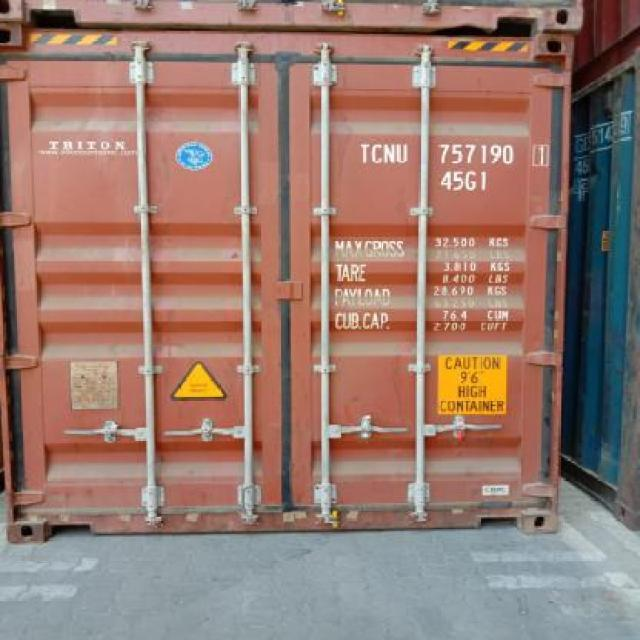ISO: (437, 168, 487, 192)
container_number: (358, 140, 547, 168)
